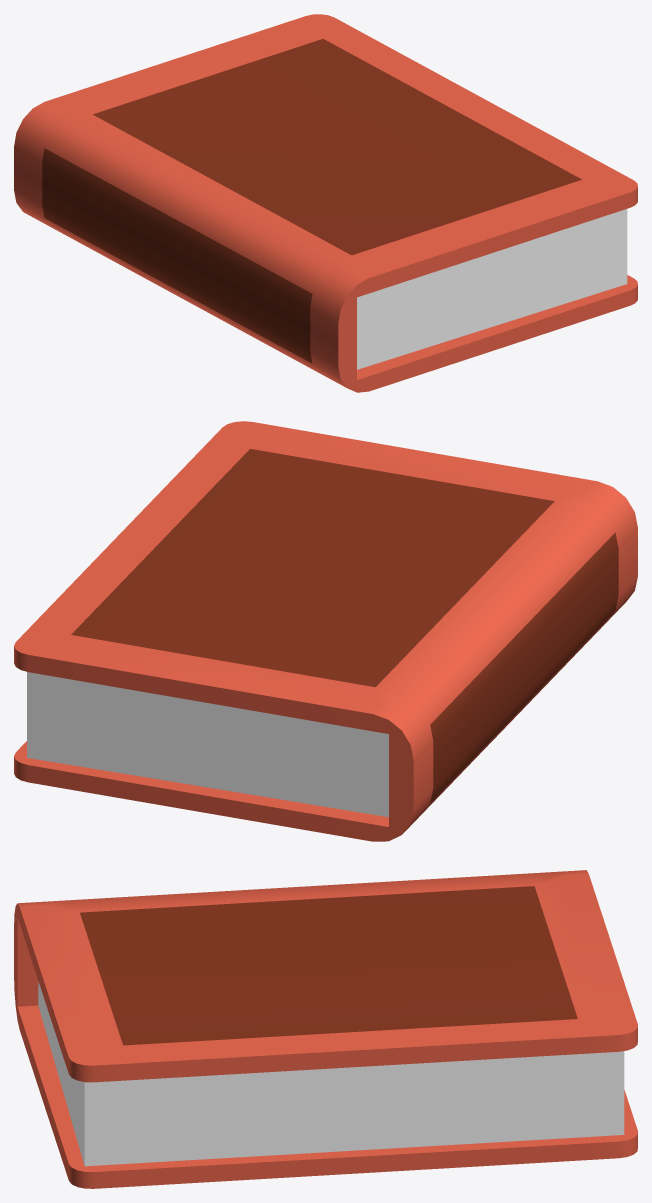
File: book_21.fbx
3 renders of one model, top to bottom at view 1: azimuth 30°, elevation 25°; view 2: azimuth 150°, elevation 25°; view 3: azimuth 270°, elevation 25°, orthographic. The views are drawn at different scales.
Parts seen in each view (by area): view 1: book_21; view 2: book_21; view 3: book_21.
Boxes of the visible parts, x1,y1,x2,y2 form: book_21: [14, 14, 637, 392]; book_21: [14, 421, 637, 841]; book_21: [14, 870, 637, 1188].
Bounding box in the file's own units: 0.3266 × 0.0896 × 0.4113.
